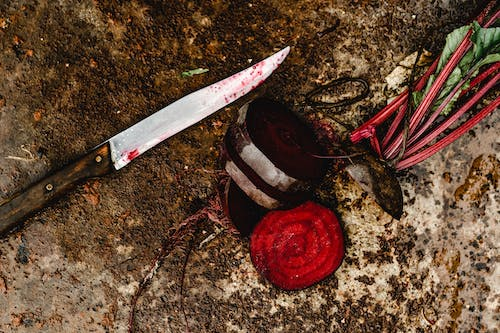knife: (0, 43, 291, 244)
